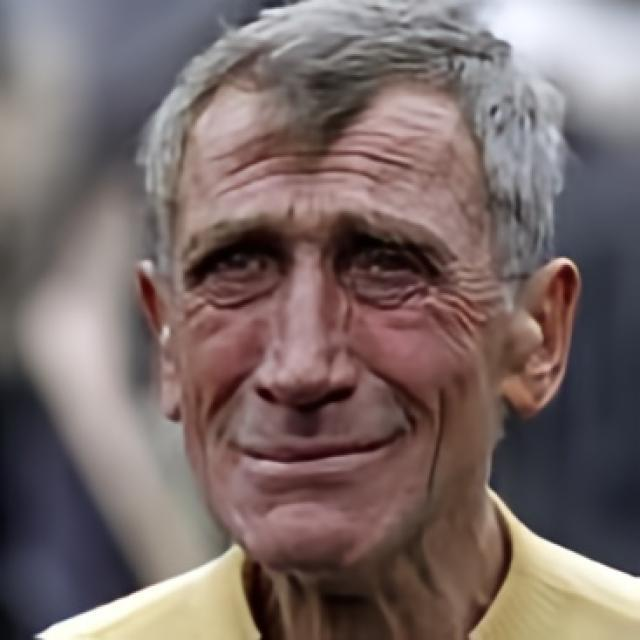sad: (172, 100, 504, 564)
